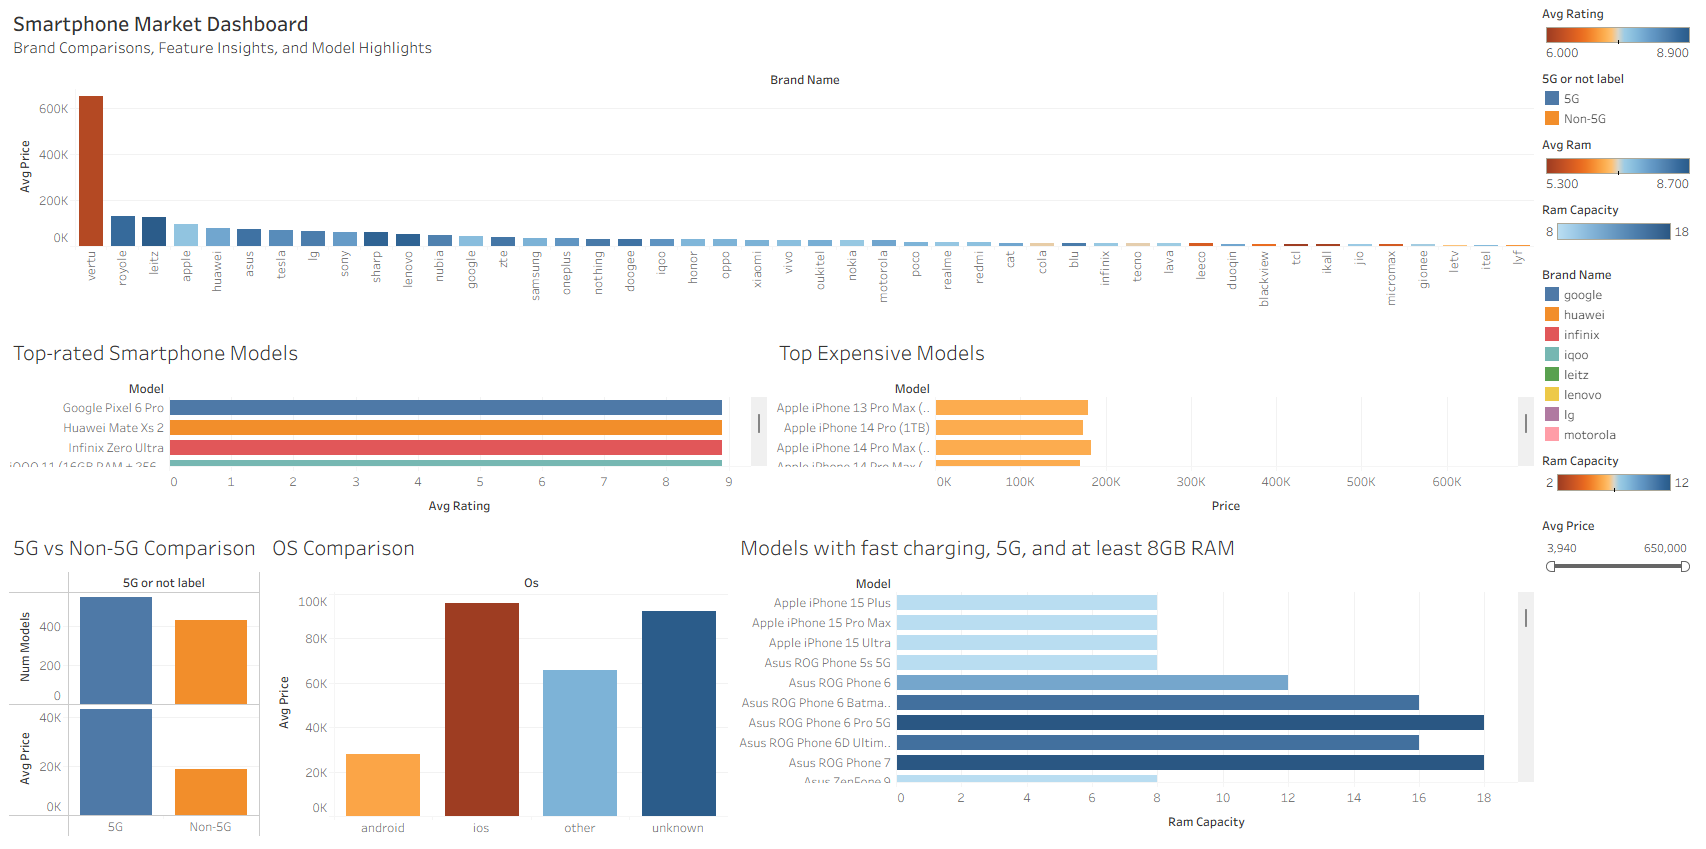

The dashboard page shown, as its layout file describes it:
{"tool":"tableau","page":{"name":"Smartphone Insights","canvas":[1000,1000],"units":"permille","ordinal":0},"visuals":[{"type":"worksheet","title":"Brand Overview","mark":"Automatic","rows":["avg_price"],"cols":["brand_name"],"box":[4.7,9.3,897,384.3]},{"type":"legend","title":"Brand Overview","param":"[federated.0hex5ga08iupc110ynf470e1rs0s].[sum:avg_rating:qk]","box":[901.7,9.3,93.6,75.9]},{"type":"legend","title":"5G vs Non-5G","param":"[federated.0egig0b0ohh5q7188f3221m9nunh].[none:Calculation_2831356793203806208:n","box":[901.7,85.3,93.6,77.1]},{"type":"legend","title":"OS Comparison","param":"[federated.0m1agrc19qo20r188z507113nus7].[sum:avg_ram:qk]","box":[901.7,162.4,93.6,75.9]},{"type":"legend","title":"Premium Models","param":"[federated.12909qa1p1x34g1f7fbta04uzx9j].[sum:ram_capacity:qk]","box":[901.7,238.3,93.6,75.9]},{"type":"legend","title":"Top-rated Models","param":"[federated.0hjs06s1fmnkeo186p44x1no7qja].[none:brand_name:nk]","box":[901.7,314.3,93.6,217.3]},{"type":"worksheet","title":"Top-rated Models","mark":"Automatic","rows":["model"],"cols":["avg_rating"],"box":[4.7,393.7,448.5,227.8]},{"type":"worksheet","title":"Top Expensive Models","mark":"Automatic","rows":["model"],"cols":["price"],"box":[453.1,393.7,448.6,227.8]},{"type":"legend","title":"Top Expensive Models","param":"[federated.02bverr0kjesbg1h70dhi0g08gzj].[sum:ram_capacity:qk]","box":[901.7,531.6,93.6,75.9]},{"type":"filter","title":"Brand Overview","param":"[federated.0hex5ga08iupc110ynf470e1rs0s].[sum:avg_price:qk]","box":[901.7,607.5,93.6,80.6]},{"type":"worksheet","title":"5G vs Non-5G","mark":"Automatic","rows":["num_models","avg_price"],"cols":["Calculation_2831356793203806208"],"box":[4.7,621.5,151.5,369.2]},{"type":"worksheet","title":"OS Comparison","mark":"Automatic","rows":["avg_price"],"cols":["os"],"box":[156.2,621.5,273.9,369.2]},{"type":"worksheet","title":"Premium Models","mark":"Automatic","rows":["model"],"cols":["ram_capacity"],"box":[430.1,621.5,471.7,369.2]}]}

Visuals, with their boxes on the dashboard's canvas, which has no fixed pixel size, in thousandths of its width and height (x1, y1, x2, y2). These are canvas units, not pixel positions in the 1706x849 screenshot, which may show the page scaled, cropped or inside an application window:
"Brand Overview" worksheet: bbox=(5, 9, 902, 394)
"Brand Overview" legend: bbox=(902, 9, 995, 85)
"5G vs Non-5G" legend: bbox=(902, 85, 995, 162)
"OS Comparison" legend: bbox=(902, 162, 995, 238)
"Premium Models" legend: bbox=(902, 238, 995, 314)
"Top-rated Models" legend: bbox=(902, 314, 995, 532)
"Top-rated Models" worksheet: bbox=(5, 394, 453, 622)
"Top Expensive Models" worksheet: bbox=(453, 394, 902, 622)
"Top Expensive Models" legend: bbox=(902, 532, 995, 608)
"Brand Overview" filter: bbox=(902, 608, 995, 688)
"5G vs Non-5G" worksheet: bbox=(5, 622, 156, 991)
"OS Comparison" worksheet: bbox=(156, 622, 430, 991)
"Premium Models" worksheet: bbox=(430, 622, 902, 991)
